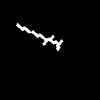double_crochet: (16, 23, 62, 50)
